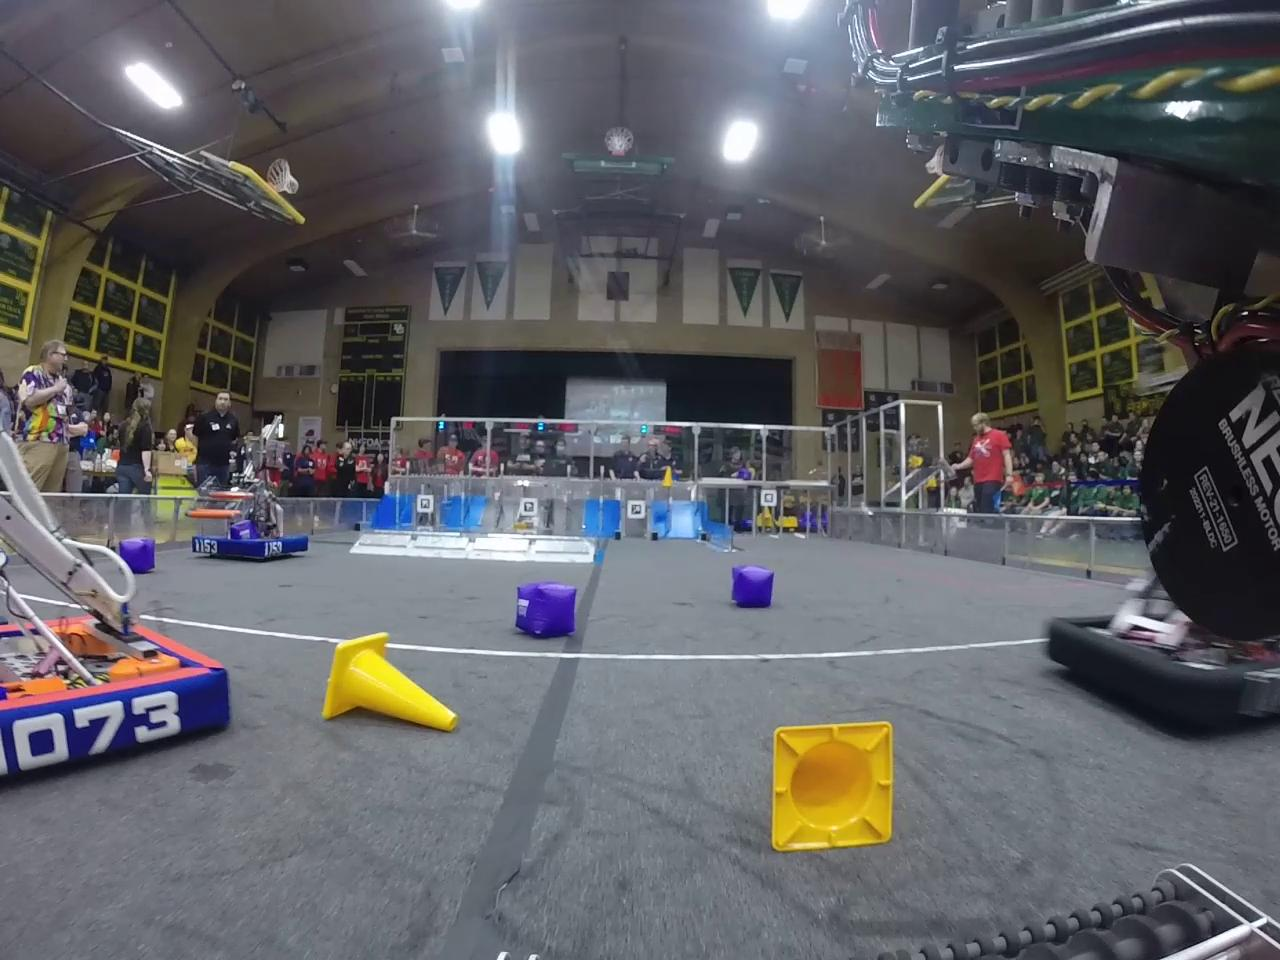robot: (0, 535, 240, 776), (1040, 547, 1280, 736), (195, 454, 312, 571)
